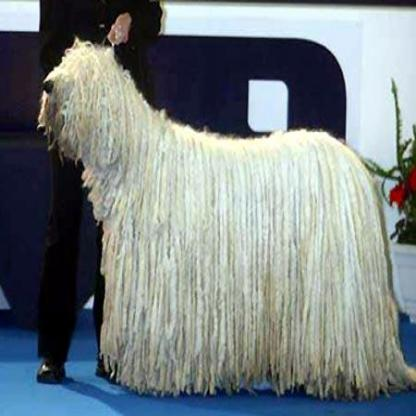komondor: (34, 29, 414, 406)
